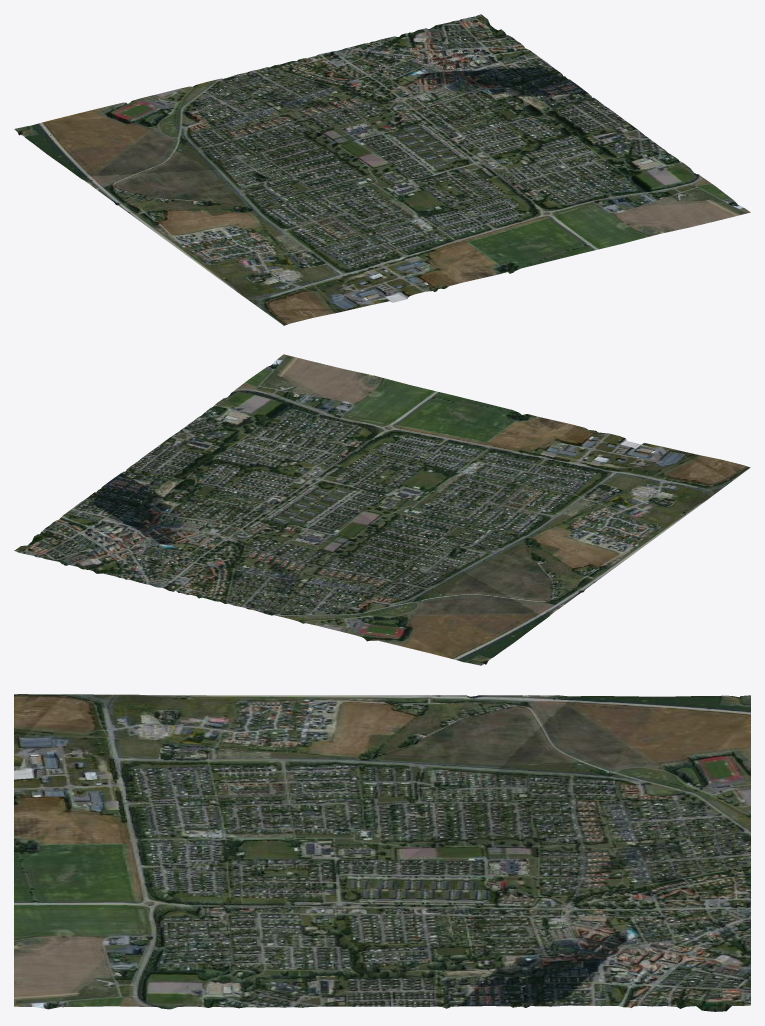
The model's file is map_10_252_431.dae.
The picture shows the model from 3 angles, top to bottom: view 1: azimuth 30°, elevation 25°; view 2: azimuth 150°, elevation 25°; view 3: azimuth 270°, elevation 25°; orthographic projection. The views are drawn at different scales.
Visible parts, largest first — view 1: Ter0; view 2: Ter0; view 3: Ter0.
Boxes of the visible parts, box(x1,y1,x2,y2) form: Ter0: box(14, 14, 750, 325); Ter0: box(14, 354, 750, 665); Ter0: box(14, 694, 750, 1011).
Size of the model in its own units: 2044 by 2044 by 26.98.
3 materials, 3 textured.
